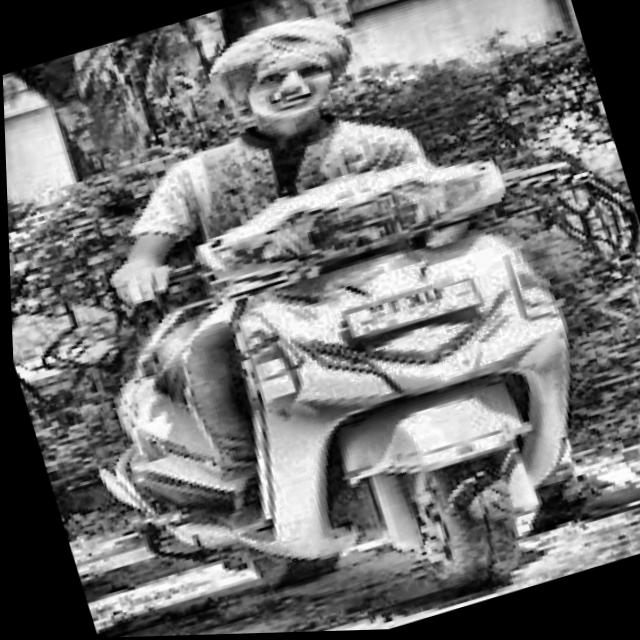motorcycle: (16, 111, 640, 640)
